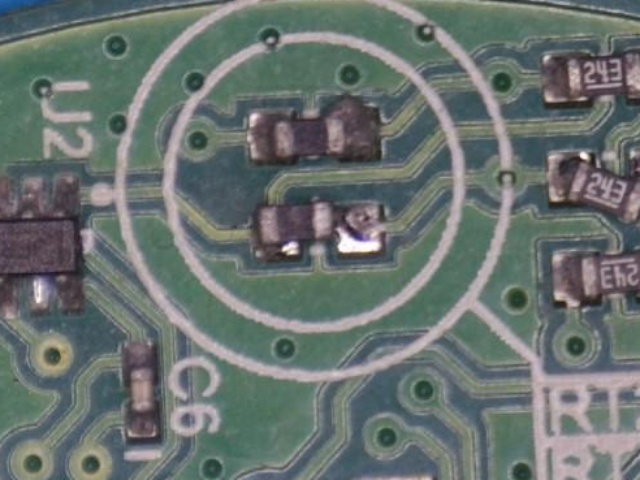pcb_defect: (250, 199, 386, 262), (545, 145, 640, 226)
